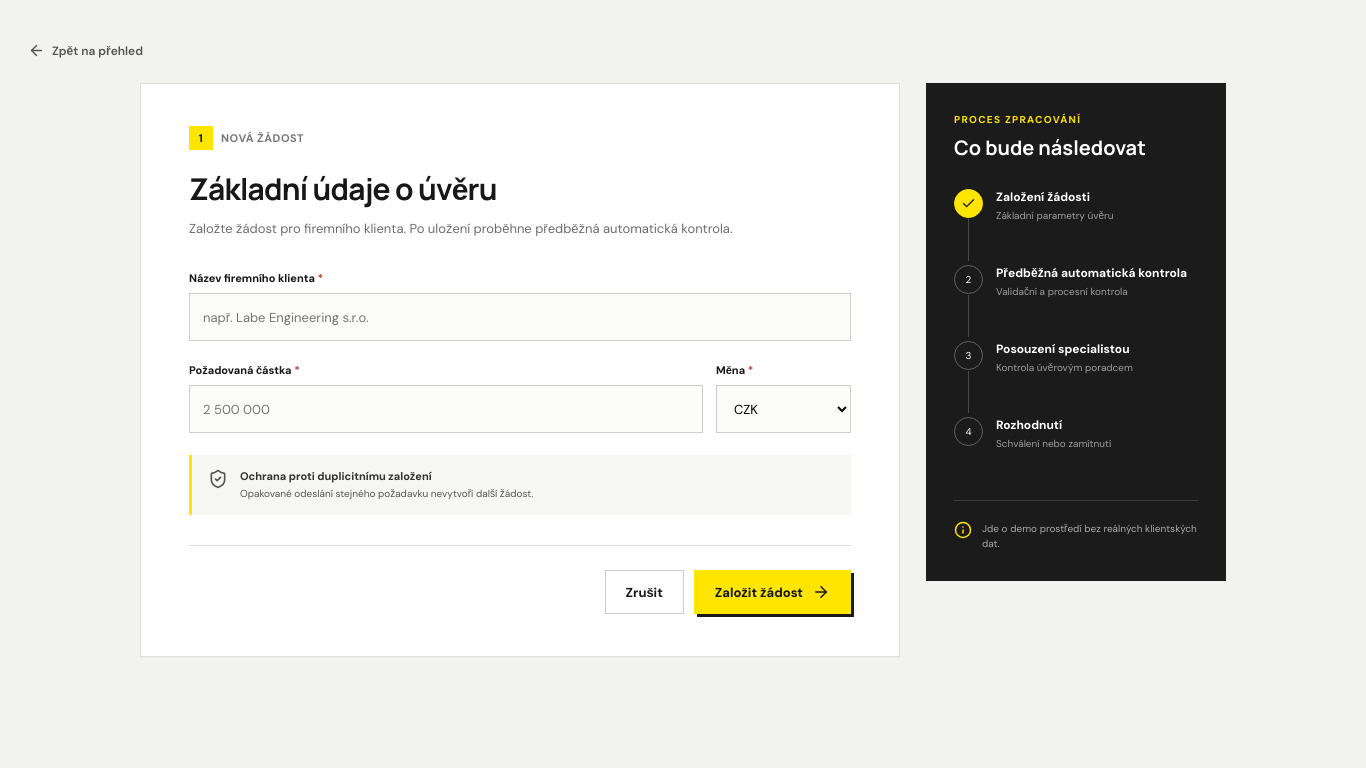
Test case: application workflow UI › formats the amount while keeping the complete four-step process visible
Type "2500000" into the field labelled "Požadovaná částka *" at (446, 409), box [189,385,703,433]
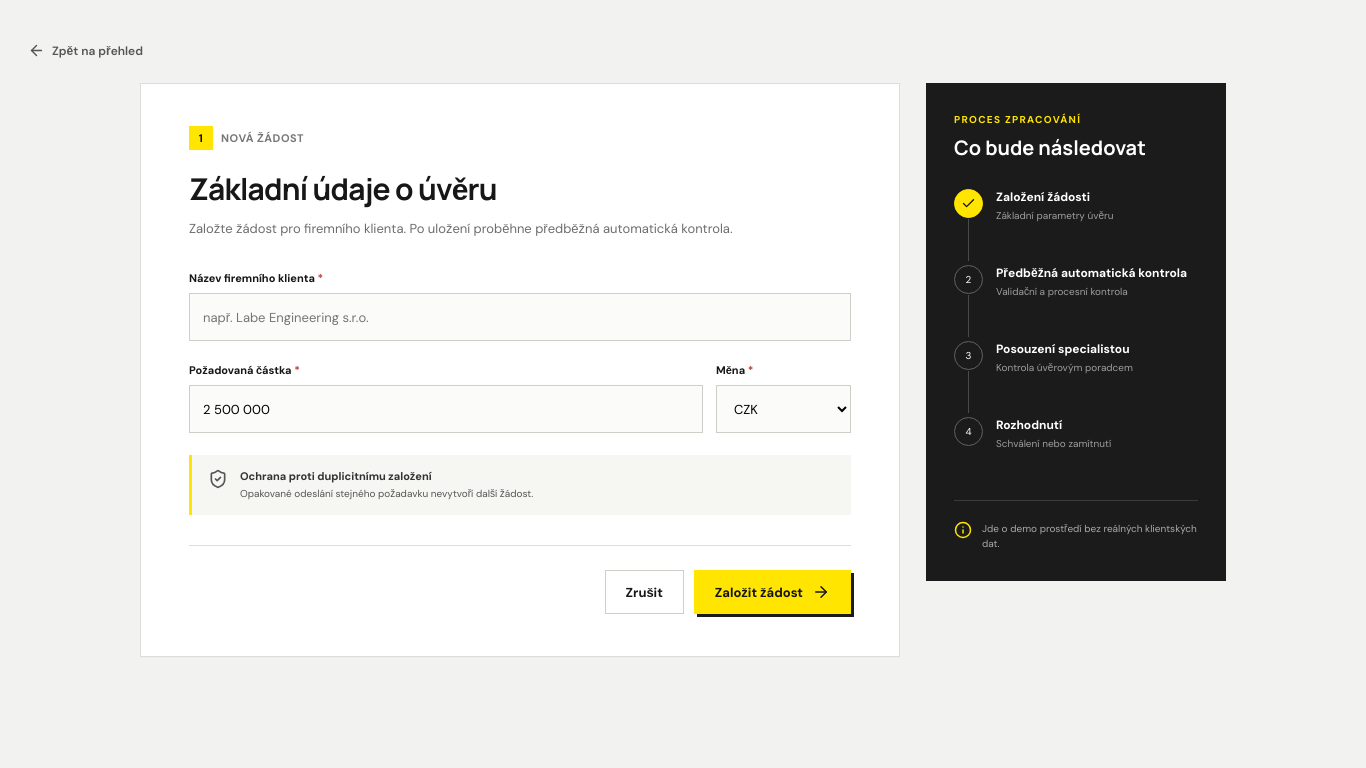
Expected: the text "Založení žádosti" is shown, [996,189,1090,205]
Expected: the field labelled "Požadovaná částka *" holds "2 500 000", [189,385,703,433]
